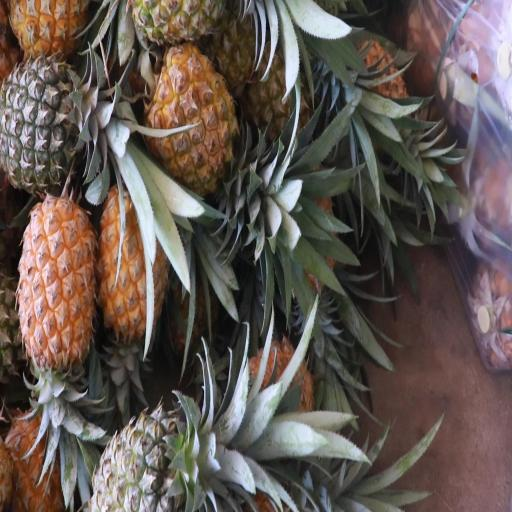Pineapple - v8 v1: (148, 45, 266, 185), (20, 188, 92, 402), (101, 176, 172, 340)
